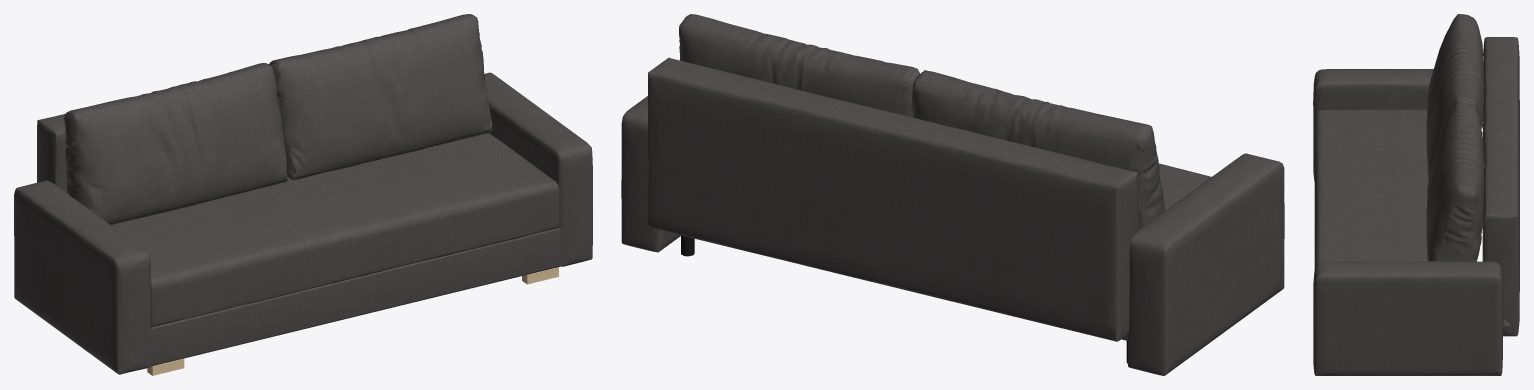
The model's file is vbjoklco7d81.glb.
3 views of the same model, side by side, from view 1: azimuth 30°, elevation 25°; view 2: azimuth 150°, elevation 25°; view 3: azimuth 270°, elevation 25° (orthographic). The views are drawn at different scales.
Parts seen in each view (by area): view 1: model; view 2: model; view 3: model.
Part boxes in pixels (<box>): model: <box>14,14,592,375</box>; model: <box>621,14,1284,375</box>; model: <box>1313,14,1519,375</box>.
Bounding box in the file's own units: 2.26 × 0.9164 × 0.9493.
1 material, 1 textured.
